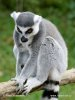cat: (8, 7, 72, 99)
